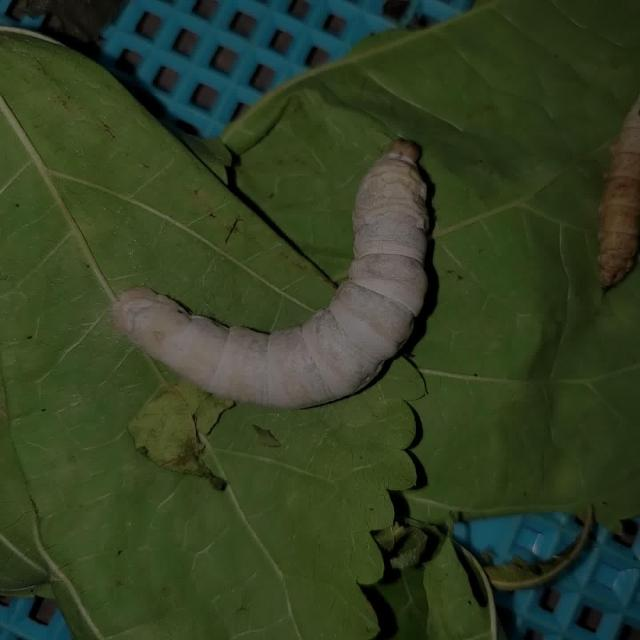Grasserie: (92, 130, 467, 414)
